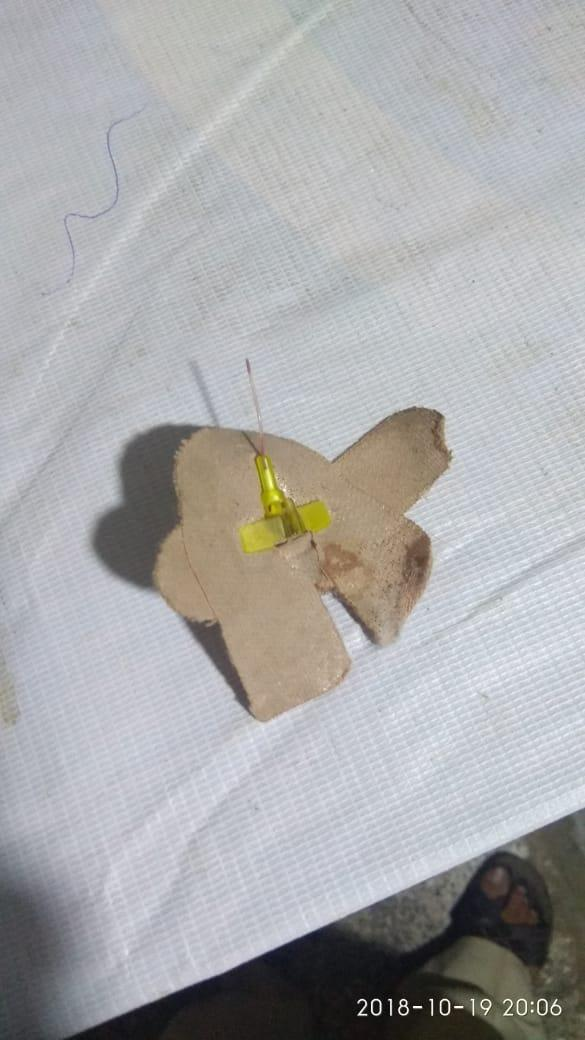waste: (128, 342, 434, 720)
